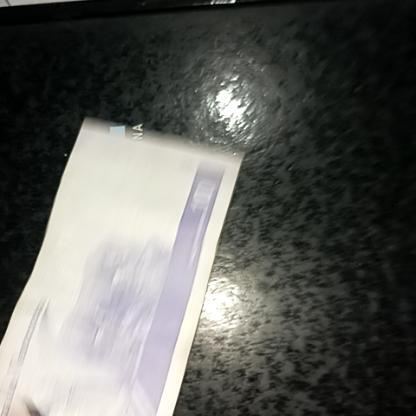ten-back-vef: (0, 138, 243, 416)
